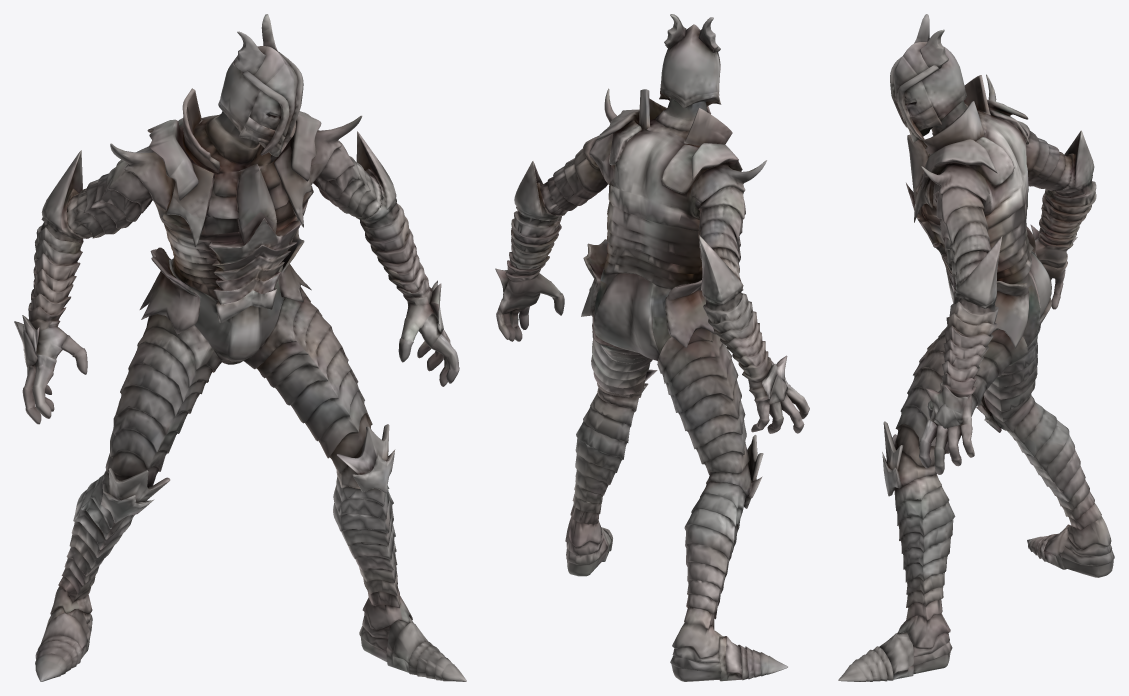
Rendered from MZ4250 - Ragewalker_2025.glb.
The picture shows the model from 3 angles, left to right: view 1: azimuth 30°, elevation 25°; view 2: azimuth 150°, elevation 25°; view 3: azimuth 270°, elevation 25°; orthographic projection. The views are drawn at different scales.
Visible parts, largest first — view 1: Body.002; view 2: Body.002; view 3: Body.002.
Part boxes in pixels (x1,y1,x2,y2): Body.002: (14,14,466,681); Body.002: (495,14,809,681); Body.002: (838,14,1114,681).
Bounding box in the file's own units: 98.85 × 163 × 69.16.
Materials: 1 (1 with a texture image).
